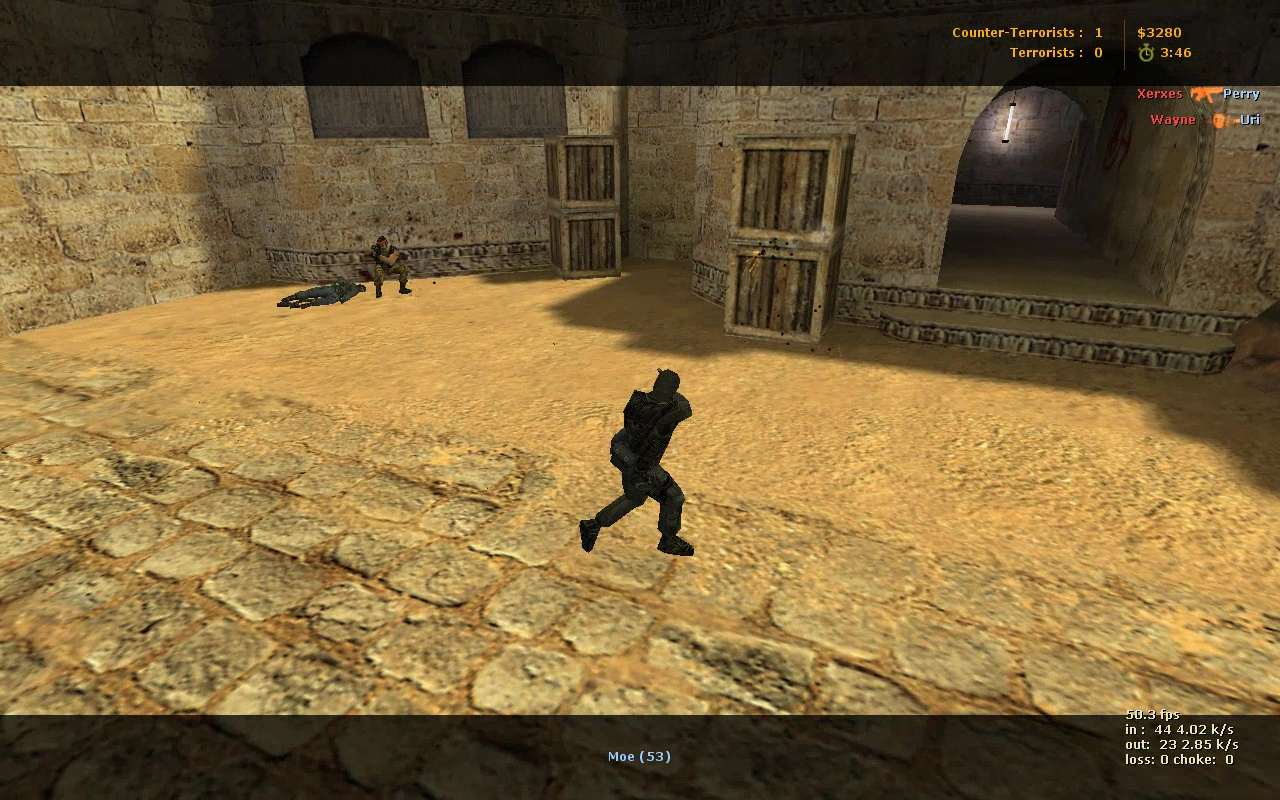ct: (576, 364, 711, 560)
dead: (279, 279, 363, 311)
terr1: (366, 236, 413, 302)
